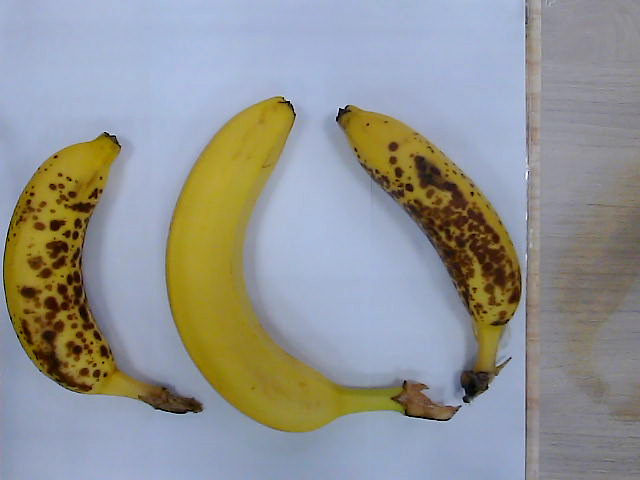fresh_banana: (166, 97, 454, 433)
rotten_banana: (333, 103, 522, 403), (5, 133, 204, 417)
